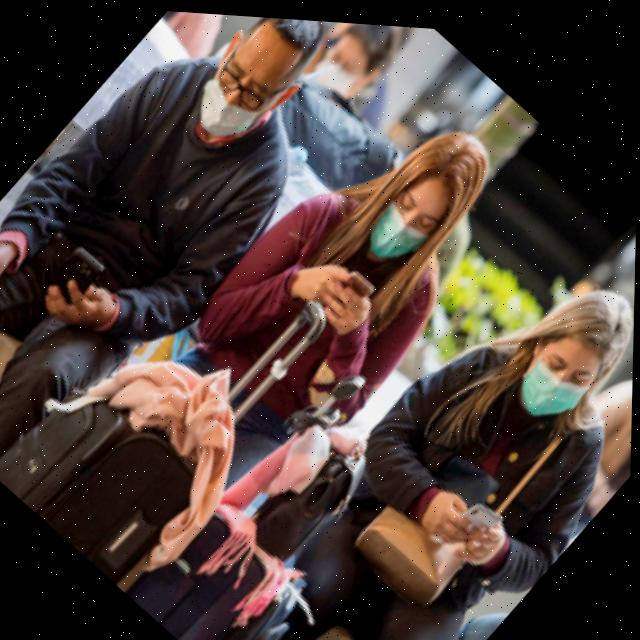Mask: (173, 24, 299, 156), (500, 330, 596, 427), (354, 186, 436, 272), (301, 29, 378, 107)
